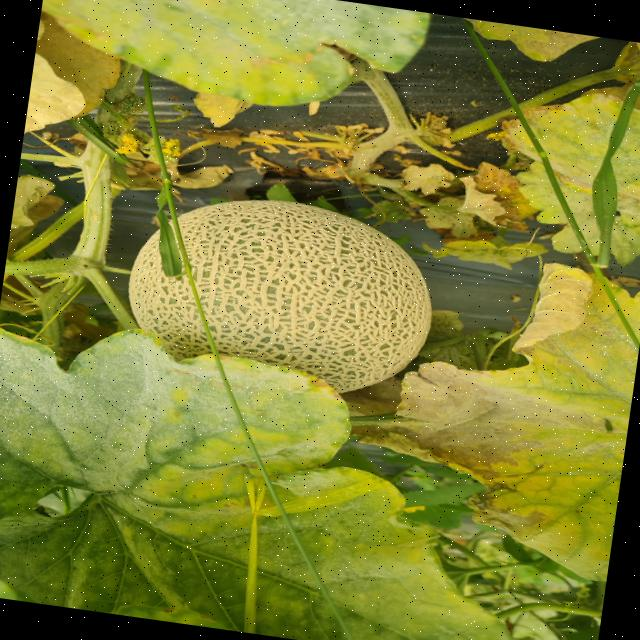melon: (177, 199, 431, 391), (128, 234, 209, 358)
